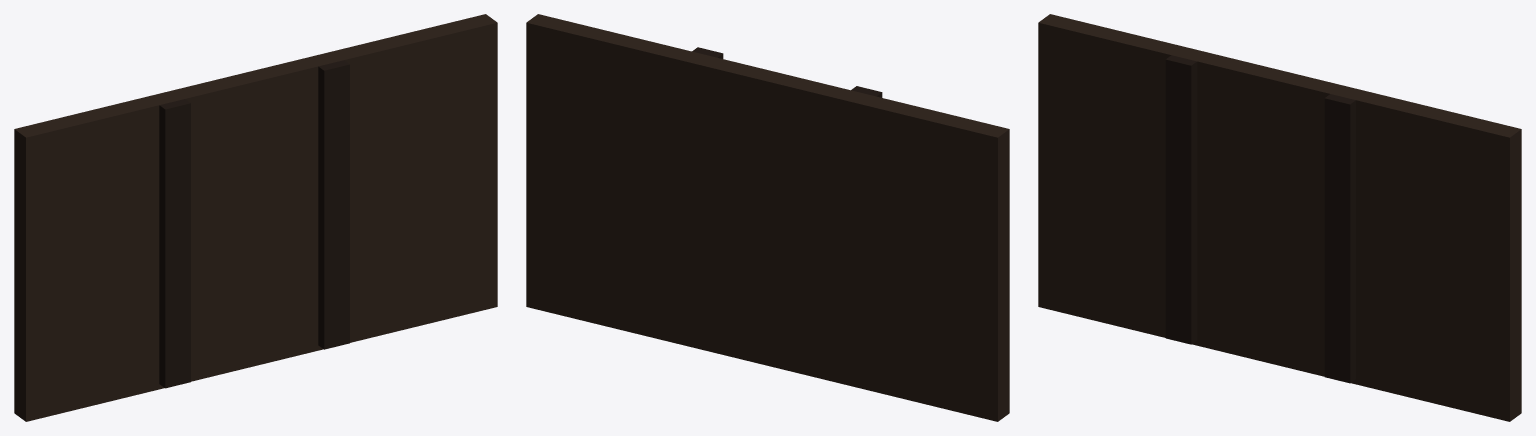
Rendered from Left_Wall.fbx.
The picture shows the model from 3 angles, left to right: view 1: azimuth 30°, elevation 25°; view 2: azimuth 150°, elevation 25°; view 3: azimuth 330°, elevation 25°; orthographic projection.
Parts seen in each view (by area): view 1: Left_Wall.Merged; view 2: Left_Wall.Merged; view 3: Left_Wall.Merged.
Part boxes in pixels (x1,y1,x2,y2): Left_Wall.Merged: [14, 14, 497, 421]; Left_Wall.Merged: [526, 14, 1009, 421]; Left_Wall.Merged: [1038, 14, 1521, 421].
Size of the model in its own units: 6.16 by 3.55 by 0.402.
